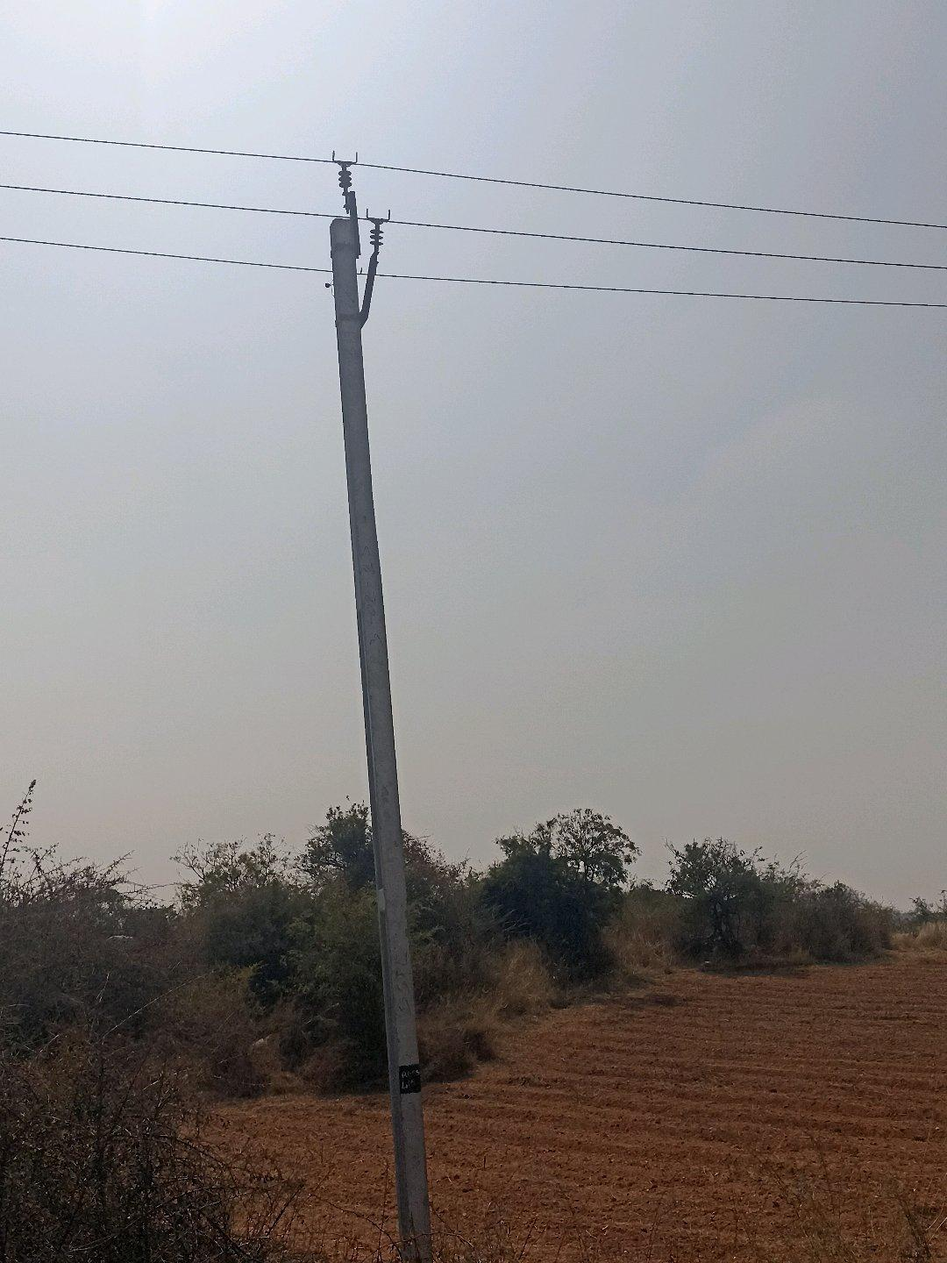{"0" "insulator", "1" "pole", "2" "crossarm", "3" "conductor", "4" "street_: (307, 157, 431, 1262), (388, 215, 424, 229), (297, 211, 298, 216), (307, 160, 310, 161)
